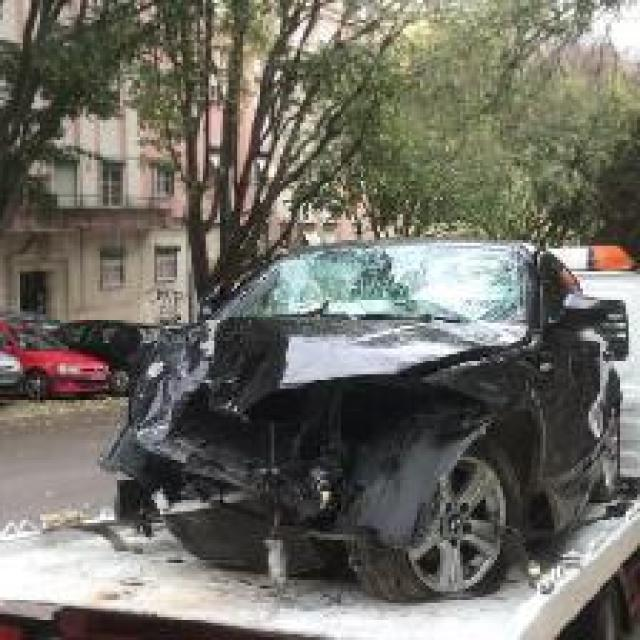damaged: (95, 352, 560, 572)
